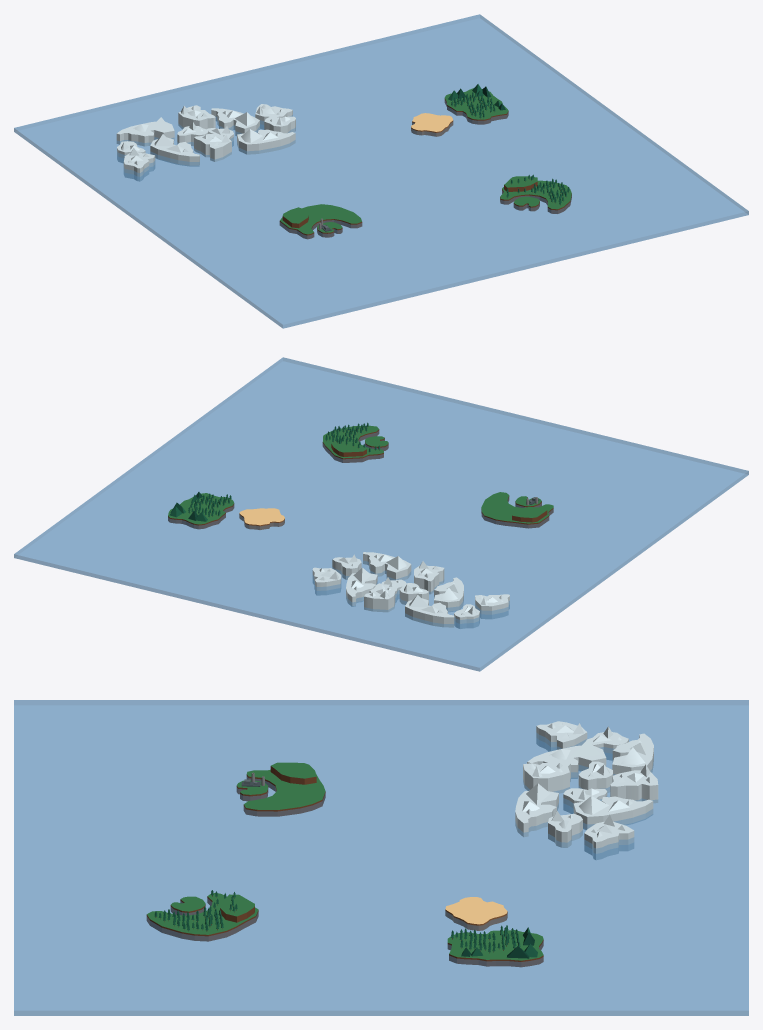
The picture shows the model from 3 angles, top to bottom: view 1: azimuth 30°, elevation 25°; view 2: azimuth 150°, elevation 25°; view 3: azimuth 270°, elevation 25°; orthographic projection. The views are drawn at different scales.
Parts seen in each view (by area): view 1: water_block, arctic_2 (×4), arctic_3 (×3), cause_island_2, flood_land, sol_island_2, southland; view 2: water_block, arctic_2 (×4), arctic_3 (×4), cause_island_2, flood_land, sol_island_2, southland; view 3: water_block, arctic_3 (×4), arctic_2 (×4), cause_island_2, flood_land, sol_island_2, arctic_1 (×2), southland, cause_island_hill, sol_island_hill.
Boxes of the visible parts, x1=… form: water_block: x1=14, y1=14, x2=748, y2=328; arctic_2 (×4): x1=116, y1=108, x2=295, y2=166; arctic_3 (×3): x1=123, y1=105, x2=231, y2=181; cause_island_2: x1=279, y1=204, x2=362, y2=239; flood_land: x1=444, y1=88, x2=508, y2=124; sol_island_2: x1=500, y1=180, x2=571, y2=213; southland: x1=411, y1=113, x2=453, y2=136; water_block: x1=14, y1=357, x2=748, y2=671; arctic_2 (×4): x1=346, y1=552, x2=463, y2=627; arctic_3 (×4): x1=312, y1=565, x2=509, y2=618; cause_island_2: x1=481, y1=492, x2=553, y2=528; flood_land: x1=168, y1=493, x2=234, y2=529; sol_island_2: x1=322, y1=425, x2=383, y2=462; southland: x1=239, y1=508, x2=284, y2=529; water_block: x1=14, y1=700, x2=748, y2=1015; arctic_3 (×4): x1=523, y1=721, x2=658, y2=859; arctic_2 (×4): x1=515, y1=733, x2=653, y2=836; cause_island_2: x1=243, y1=769, x2=325, y2=816; flood_land: x1=447, y1=930, x2=543, y2=967; sol_island_2: x1=146, y1=893, x2=258, y2=941; arctic_1 (×2): x1=548, y1=761, x2=613, y2=847; southland: x1=445, y1=897, x2=507, y2=930; cause_island_hill: x1=270, y1=762, x2=316, y2=784; sol_island_hill: x1=220, y1=894, x2=254, y2=922.
Bounding box in the file's own units: 5000 × 273 × 5000.
